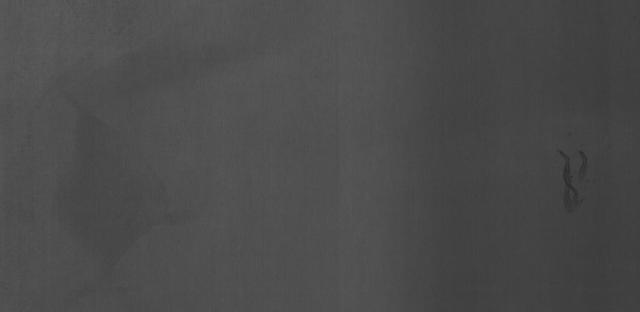water_spot: (552, 137, 600, 223)
